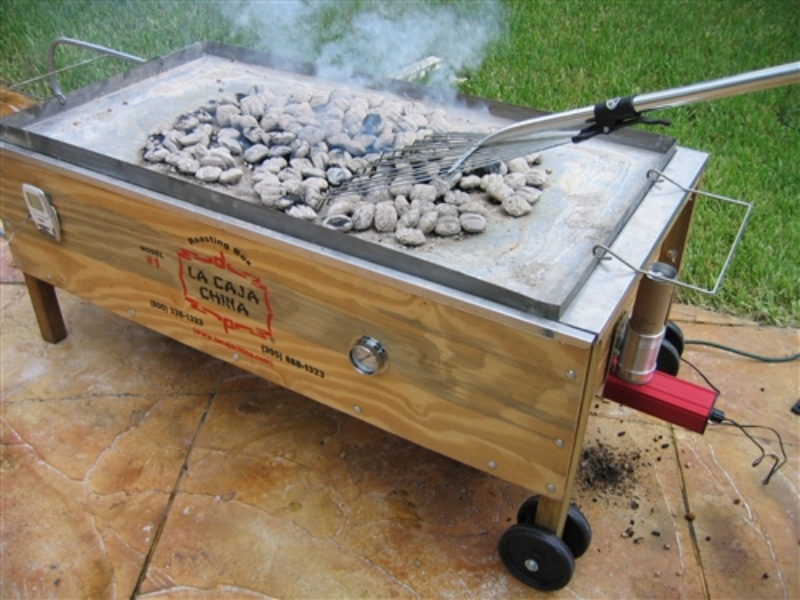smoke: (237, 1, 483, 113)
